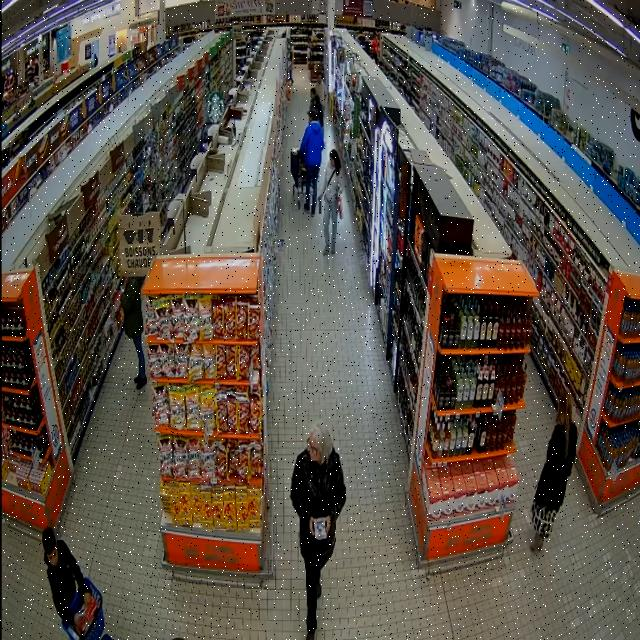article: (315, 516, 327, 541), (337, 198, 343, 219), (335, 184, 340, 194), (319, 197, 322, 213)
hands: (83, 591, 93, 606), (309, 517, 315, 535), (74, 614, 81, 629), (326, 516, 331, 531), (334, 192, 341, 199), (318, 194, 323, 200)
person: (291, 421, 346, 639), (531, 392, 577, 550), (43, 528, 92, 626), (122, 278, 147, 389), (300, 110, 324, 216), (320, 150, 343, 255), (314, 94, 323, 130), (310, 87, 317, 110)
